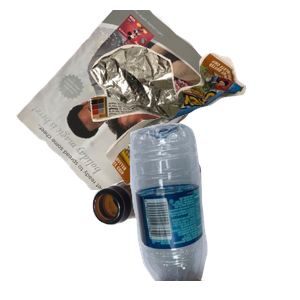glass: (90, 148, 300, 300)
paper: (14, 10, 229, 190)
plastic: (127, 120, 300, 300)
trash: (88, 42, 300, 219)
